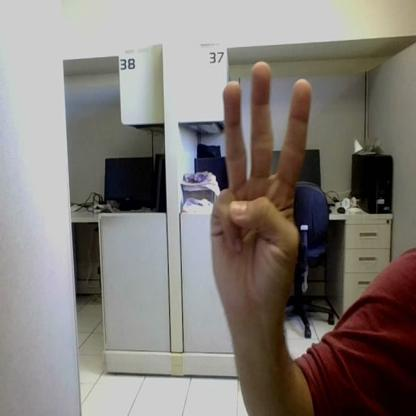W: (212, 62, 310, 302)
